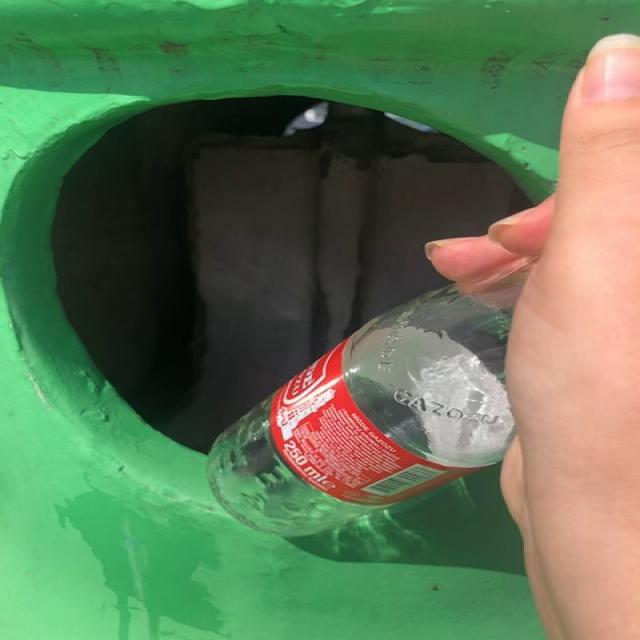glass: (208, 287, 516, 538)
